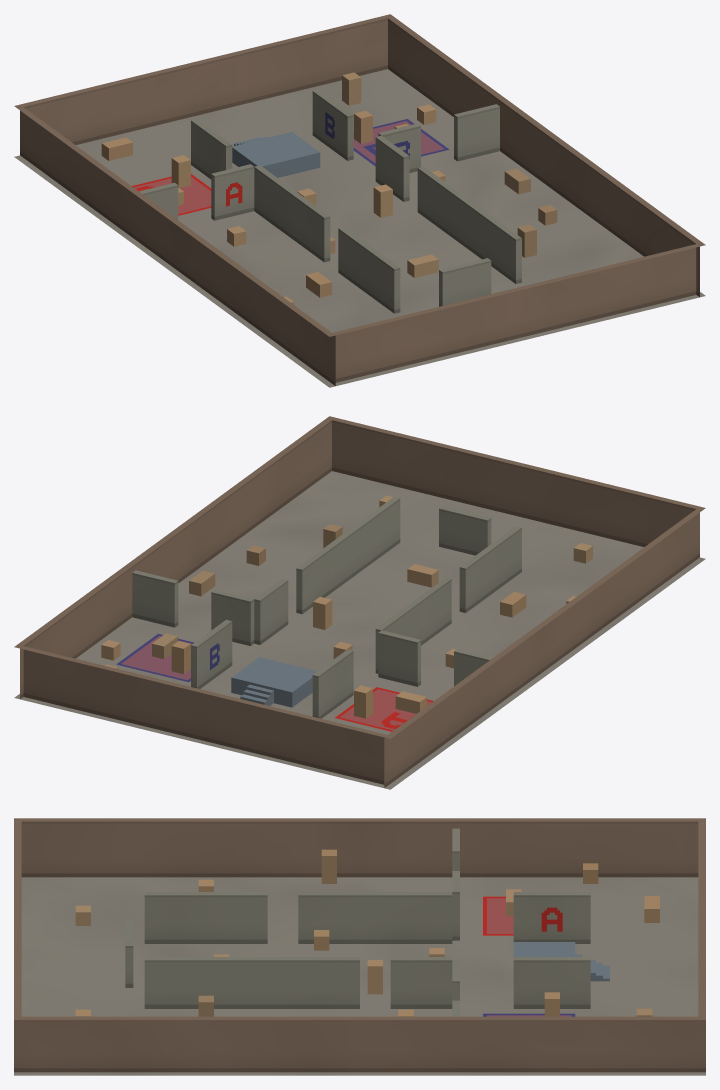
The model's file is greybox.glb.
The picture shows the model from 3 angles, top to bottom: view 1: azimuth 30°, elevation 25°; view 2: azimuth 150°, elevation 25°; view 3: azimuth 270°, elevation 25°; orthographic projection. The views are drawn at different scales.
Parts seen in each view (by area): view 1: greybox_world, greybox_paint; view 2: greybox_world, greybox_paint; view 3: greybox_world, greybox_paint.
Boxes of the visible parts, left/top/right/bottom form: greybox_world: left=14, top=14, right=705, bottom=387; greybox_paint: left=132, top=112, right=449, bottom=215; greybox_world: left=14, top=416, right=705, bottom=789; greybox_paint: left=116, top=634, right=433, bottom=731; greybox_world: left=14, top=818, right=705, bottom=1075; greybox_paint: left=483, top=896, right=575, bottom=1016.
Bounding box in the file's own units: 31 × 4 × 45.
